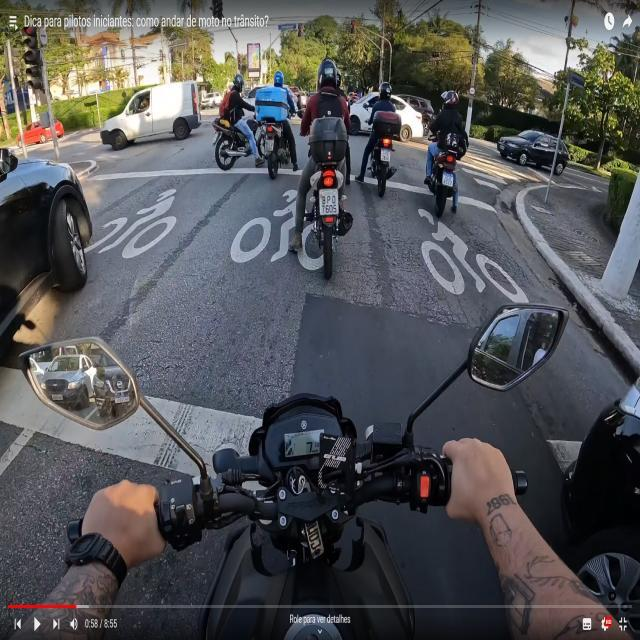placa_moto: (317, 186, 341, 220), (442, 169, 454, 188), (380, 145, 391, 163), (265, 136, 274, 153)
